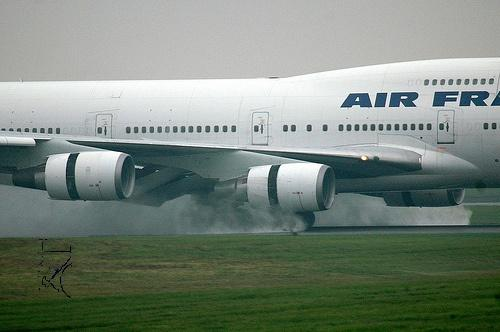tampered: (39, 240, 72, 298)
